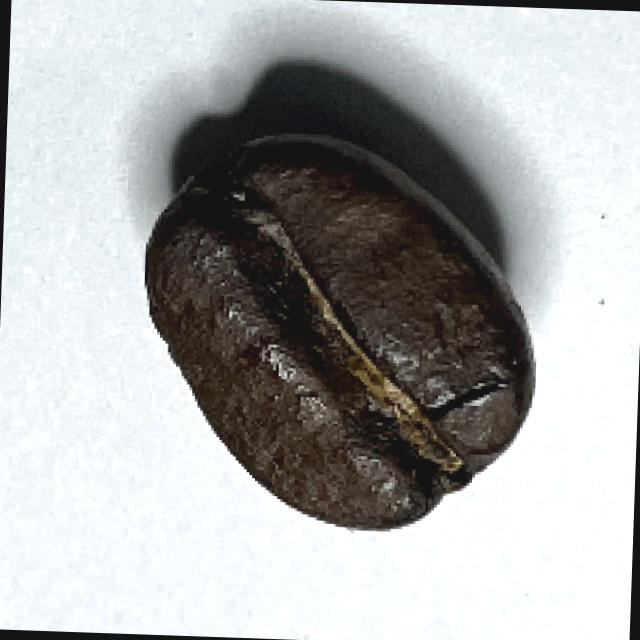bean: (127, 126, 548, 544)
